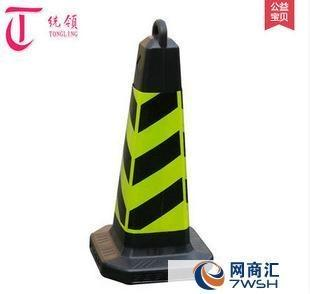cone_barrel: (88, 22, 205, 272)
